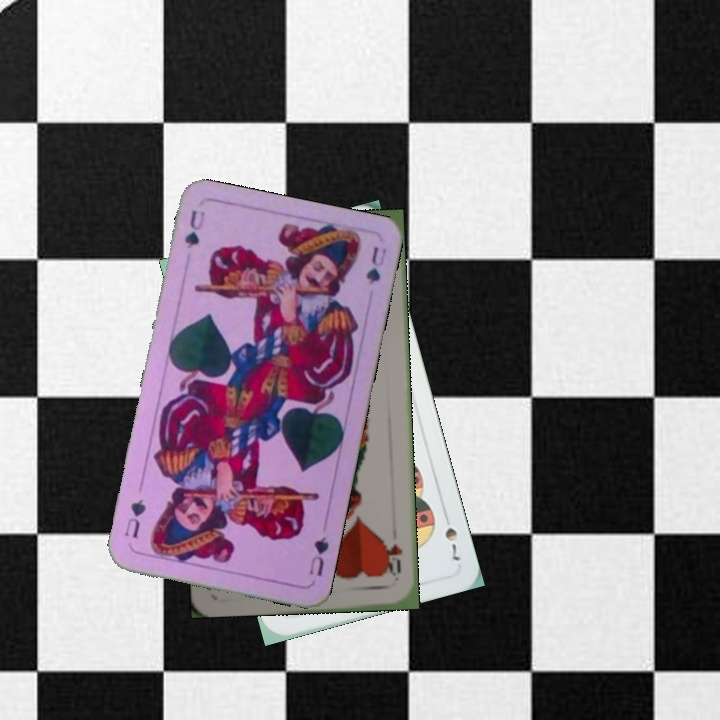GU: (305, 532, 332, 579), (180, 206, 207, 252)
HO: (381, 539, 406, 579)
S7: (440, 523, 462, 564)
